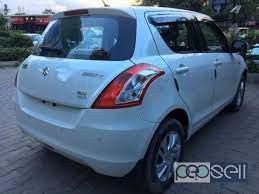Hatchback: (11, 2, 249, 185)
